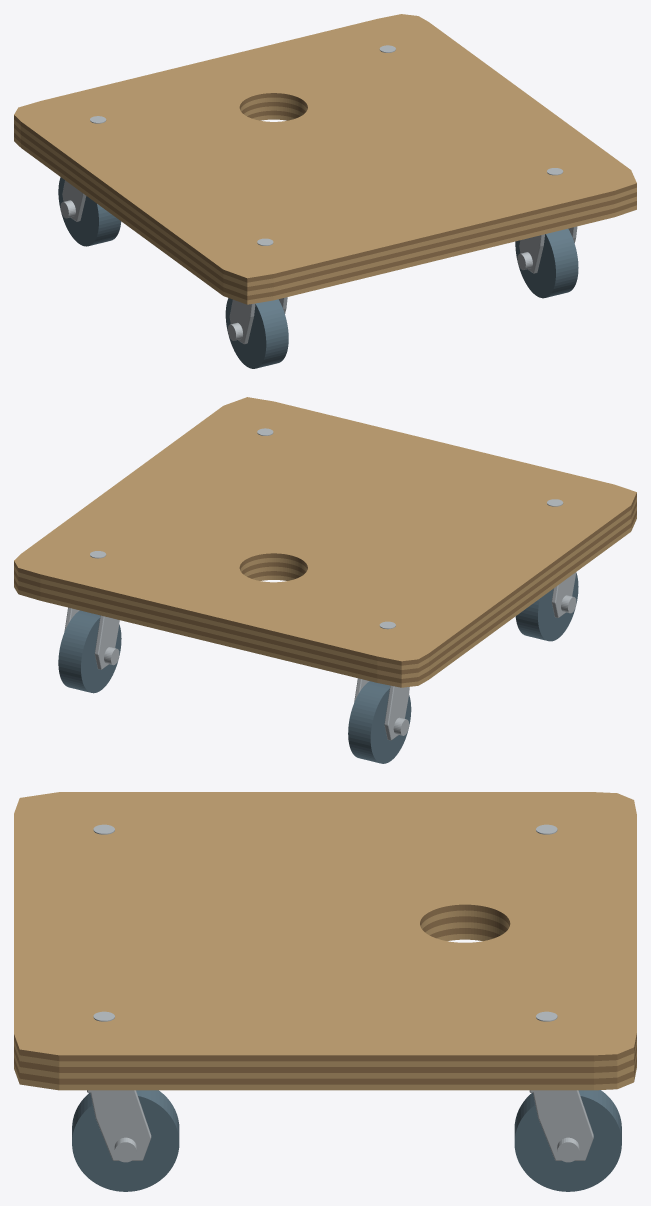
Rendered from full.glb.
The picture shows the model from 3 angles, top to bottom: view 1: azimuth 30°, elevation 25°; view 2: azimuth 150°, elevation 25°; view 3: azimuth 270°, elevation 25°; orthographic projection. The views are drawn at different scales.
Visible parts, largest first — view 1: Plywood platform with through handle, Single caster wheel 0, Single caster wheel 1, Single caster wheel 2, Fork cheek (0, -1), Fork cheek (1, -1), Fork cheek (2, -1); view 2: Plywood platform with through handle, Single caster wheel 3, Single caster wheel 2, Single caster wheel 0, Fork cheek (2, -1), Fork cheek (3, -1), Fork cheek (0, -1); view 3: Plywood platform with through handle, Single caster wheel 1, Single caster wheel 3, Fork cheek (3, 1), Fork cheek (1, 1).
Part boxes in pixels (bbox=[...]): Plywood platform with through handle: bbox=[14, 14, 636, 304]; Single caster wheel 0: bbox=[225, 298, 288, 368]; Single caster wheel 1: bbox=[515, 228, 578, 298]; Single caster wheel 2: bbox=[58, 177, 121, 246]; Fork cheek (0, -1): bbox=[229, 299, 255, 344]; Fork cheek (1, -1): bbox=[519, 234, 544, 273]; Fork cheek (2, -1): bbox=[62, 180, 86, 221]; Plywood platform with through handle: bbox=[14, 397, 636, 687]; Single caster wheel 3: bbox=[58, 610, 121, 693]; Single caster wheel 2: bbox=[348, 681, 411, 763]; Single caster wheel 0: bbox=[515, 573, 578, 641]; Fork cheek (2, -1): bbox=[384, 685, 409, 740]; Fork cheek (3, -1): bbox=[94, 615, 119, 669]; Fork cheek (0, -1): bbox=[551, 572, 576, 617]; Plywood platform with through handle: bbox=[14, 792, 636, 1090]; Single caster wheel 1: bbox=[72, 1090, 179, 1191]; Single caster wheel 3: bbox=[514, 1090, 621, 1191]; Fork cheek (3, 1): bbox=[533, 1090, 593, 1160]; Fork cheek (1, 1): bbox=[90, 1090, 151, 1160].
Size of the model in its own units: 0.29 by 0.0865 by 0.29.
